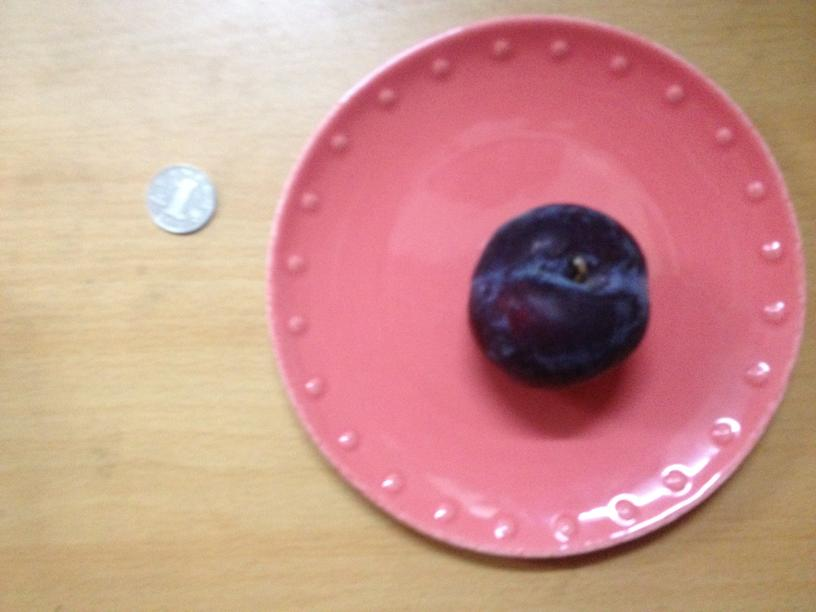coin: (144, 163, 219, 233)
plum: (470, 205, 655, 386)
